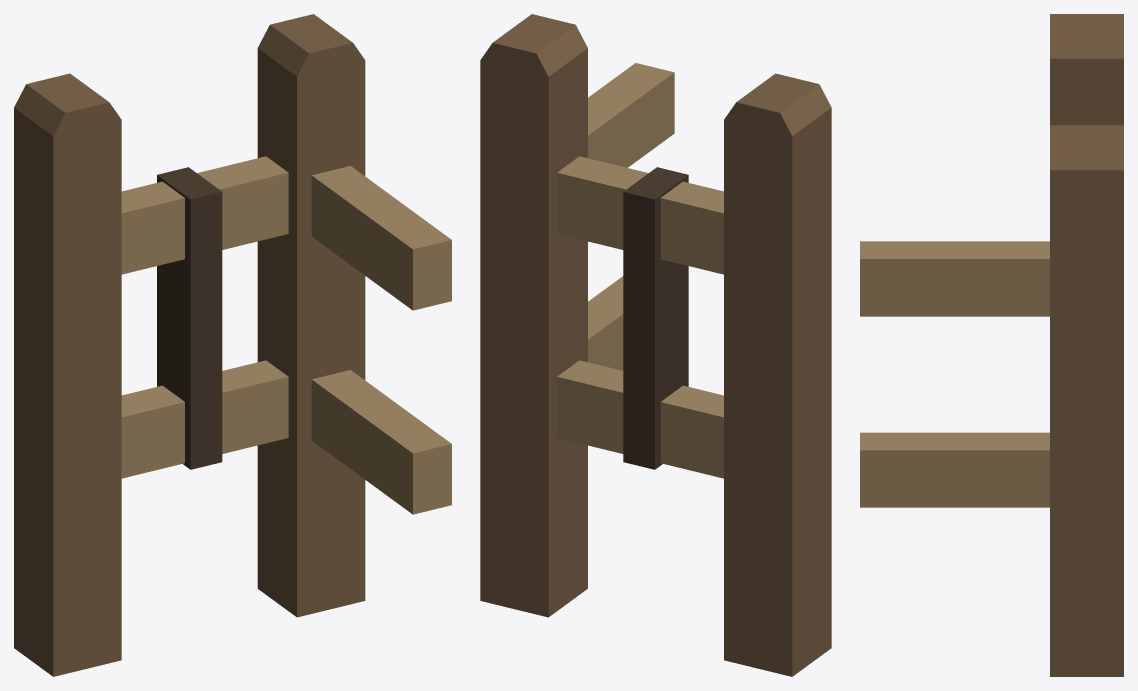
Rendered from TW_WOOD_CORNER_R90_A_LOD0.glb.
3 views of the same model, side by side, from view 1: azimuth 30°, elevation 25°; view 2: azimuth 150°, elevation 25°; view 3: azimuth 270°, elevation 25° (orthographic). The views are drawn at different scales.
Visible parts, largest first — view 1: TW_WOOD_CORNER_R90_A_LOD0; view 2: TW_WOOD_CORNER_R90_A_LOD0; view 3: TW_WOOD_CORNER_R90_A_LOD0.
Boxes of the visible parts, x1=… form: TW_WOOD_CORNER_R90_A_LOD0: x1=14, y1=14, x2=451, y2=676; TW_WOOD_CORNER_R90_A_LOD0: x1=480, y1=14, x2=831, y2=676; TW_WOOD_CORNER_R90_A_LOD0: x1=860, y1=14, x2=1123, y2=676.
Size of the model in its own units: 0.64 by 1.1 by 0.5.
Materials: 1 (1 with a texture image).
